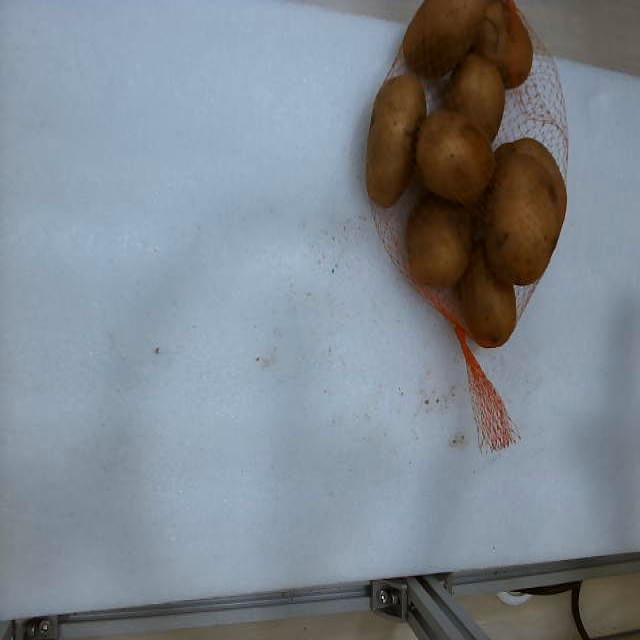potato: (484, 138, 566, 285), (368, 73, 426, 206), (416, 110, 495, 204), (404, 0, 488, 76), (459, 243, 516, 347), (408, 195, 471, 288), (445, 53, 504, 140), (474, 0, 532, 88)
